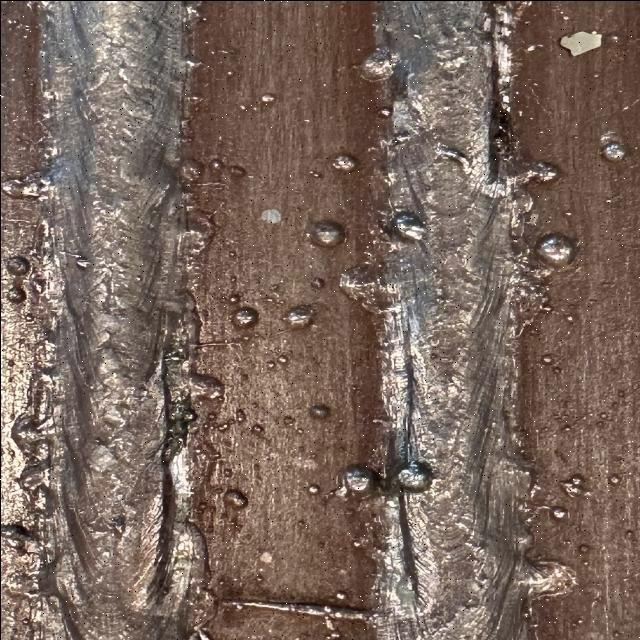Excess Reinforcement: (162, 302, 223, 465), (22, 202, 60, 356), (488, 1, 518, 186), (10, 370, 55, 479), (507, 239, 550, 339), (220, 599, 382, 619), (0, 522, 42, 596), (497, 430, 532, 515), (170, 520, 208, 592), (338, 265, 390, 312), (518, 560, 575, 599), (168, 444, 195, 515), (183, 205, 215, 255), (505, 184, 532, 240), (185, 585, 217, 631), (0, 170, 50, 198), (492, 1, 532, 36), (17, 457, 50, 492), (513, 509, 535, 558), (510, 161, 560, 182), (180, 158, 203, 180), (182, 1, 202, 25), (178, 111, 192, 145), (183, 54, 202, 68), (183, 91, 202, 104), (195, 628, 212, 640)
Spatters: (535, 233, 575, 268), (360, 46, 398, 80), (342, 464, 377, 496), (397, 461, 432, 491), (308, 220, 343, 246), (393, 211, 425, 239), (195, 418, 237, 435), (283, 304, 312, 328), (232, 306, 258, 328), (3, 255, 30, 275), (223, 489, 247, 510), (600, 141, 625, 160), (332, 154, 357, 170), (560, 479, 583, 496), (28, 275, 47, 295), (5, 286, 25, 304), (307, 404, 328, 419), (550, 505, 567, 519), (227, 165, 245, 178), (308, 276, 325, 289), (595, 412, 608, 429), (12, 0, 37, 8), (392, 131, 410, 142), (607, 472, 622, 485), (75, 255, 90, 268), (228, 166, 245, 176), (325, 629, 340, 640), (250, 424, 263, 436), (208, 158, 222, 169), (568, 474, 583, 484), (540, 354, 553, 365), (235, 408, 245, 422), (378, 106, 392, 116), (528, 484, 538, 498), (525, 43, 542, 51), (260, 92, 275, 101), (227, 292, 240, 302), (350, 536, 363, 546), (612, 629, 623, 640), (308, 170, 322, 178), (307, 484, 318, 494), (577, 544, 590, 552), (2, 16, 15, 24), (222, 468, 232, 478), (552, 365, 562, 374), (277, 354, 287, 362), (572, 618, 582, 626), (265, 360, 275, 368), (335, 591, 345, 599), (625, 529, 633, 538), (297, 519, 305, 528), (563, 209, 572, 215), (563, 539, 572, 545), (227, 250, 235, 256), (308, 453, 315, 459), (255, 574, 262, 580), (295, 428, 302, 434), (135, 275, 142, 281), (565, 314, 572, 320), (563, 425, 570, 430), (583, 561, 590, 566), (605, 198, 612, 202), (562, 15, 568, 19), (227, 70, 232, 74), (532, 82, 537, 85)
